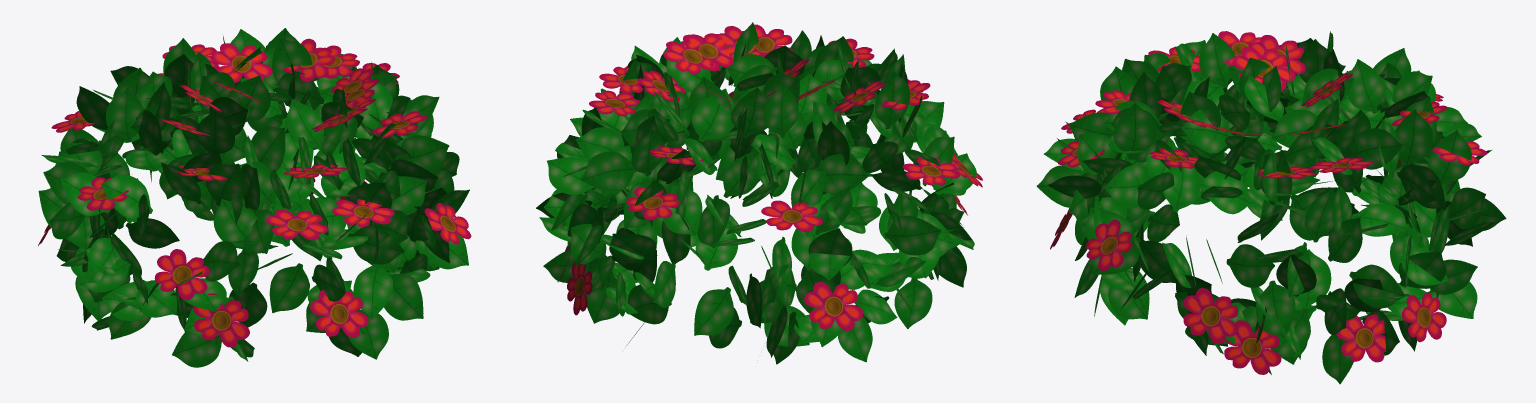
Rendered from model_ArbustoFlorVermelha_01.fbx.
3 views of the same model, side by side, from view 1: azimuth 30°, elevation 25°; view 2: azimuth 150°, elevation 25°; view 3: azimuth 270°, elevation 25° (orthographic).
Parts seen in each view (by area): view 1: BushWithRedFlowers; view 2: BushWithRedFlowers; view 3: BushWithRedFlowers.
Part boxes in pixels (x1,y1,x2,y2): BushWithRedFlowers: (38, 28, 471, 367); BushWithRedFlowers: (536, 22, 982, 364); BushWithRedFlowers: (1036, 31, 1506, 384).
Size of the model in its own units: 281 by 178 by 284.
